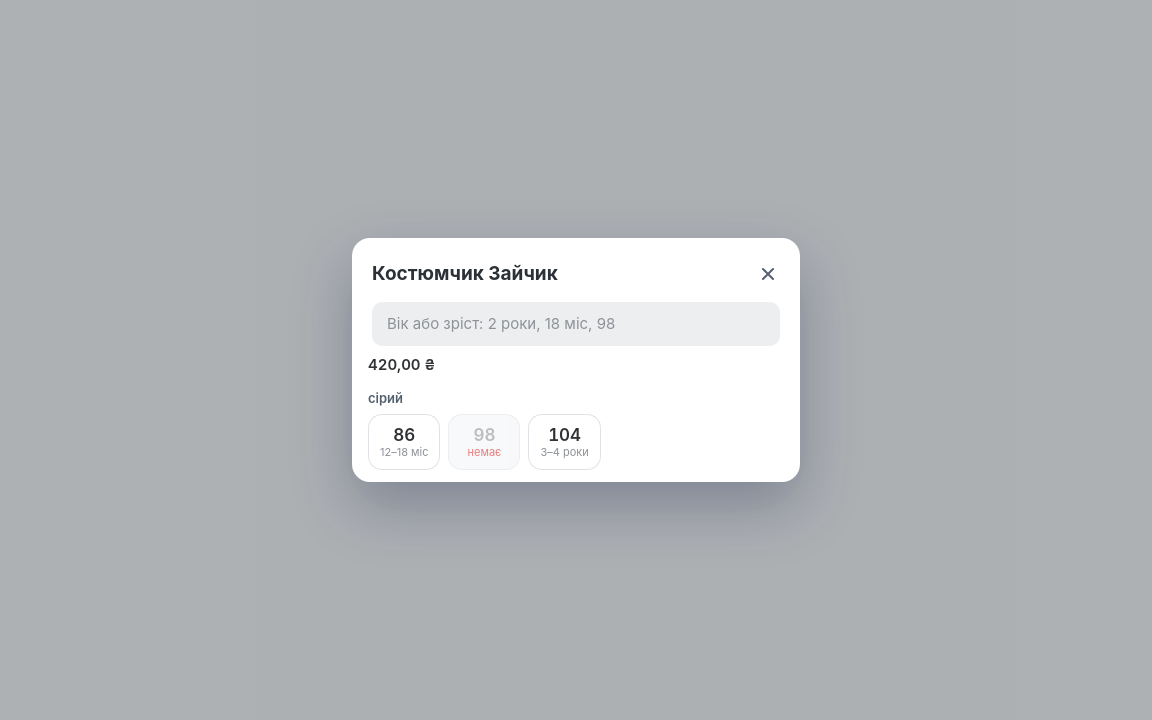
Test: VariantPicker — «Вік або зріст дитини» › never suggests a size that is out: it points at what can be sold
In the field named "Вік або зріст дитини": (576, 324) [372,302,780,346], type "2 роки"
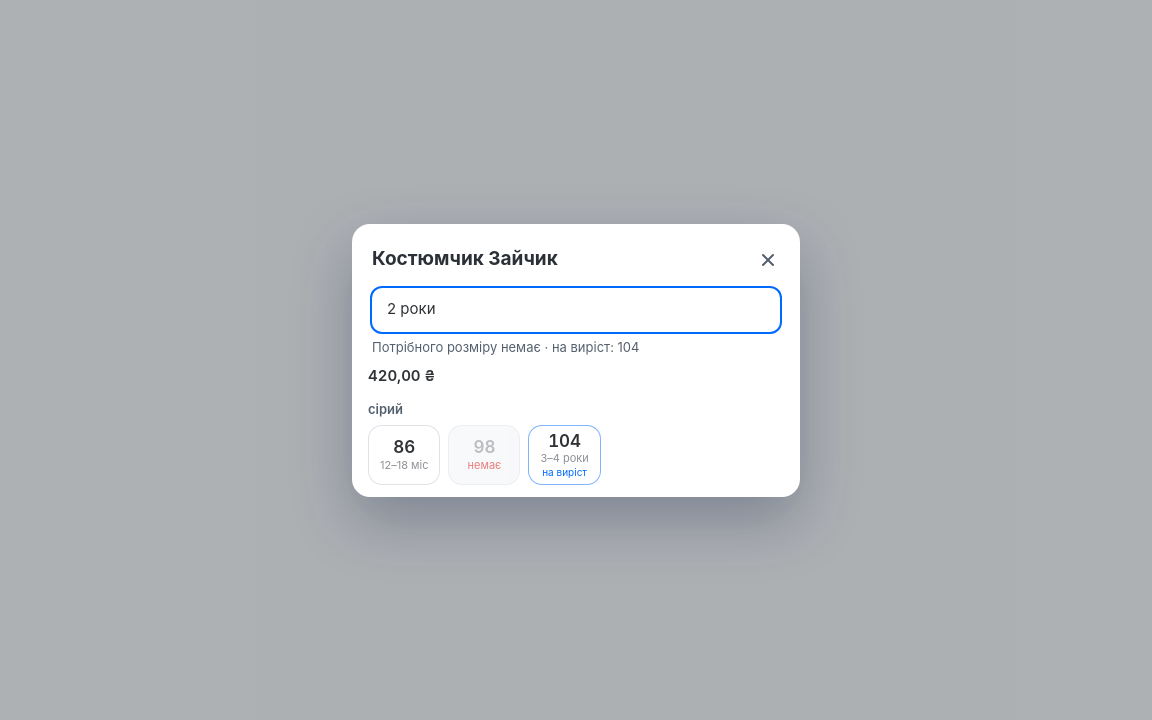
Expected: the message with test id "size-finder-status" reads "Потрібного розміру немає · на виріст: 104", [372,338,639,354]
